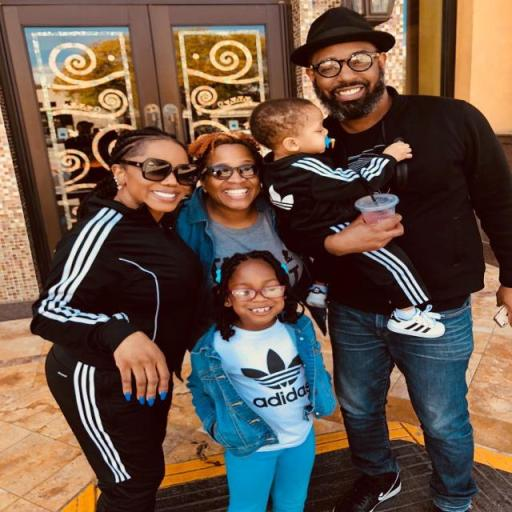Adidas: (240, 346, 309, 408), (264, 184, 295, 212)
